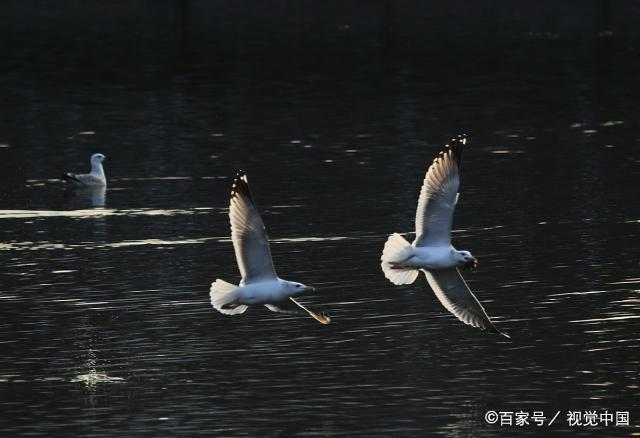bird: (379, 129, 515, 339), (204, 169, 335, 330), (63, 152, 111, 188)
